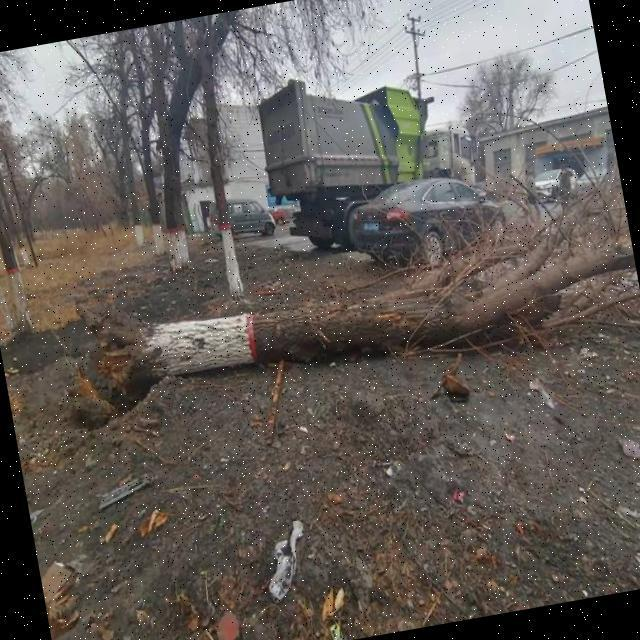fallen_object: (46, 183, 640, 436)
